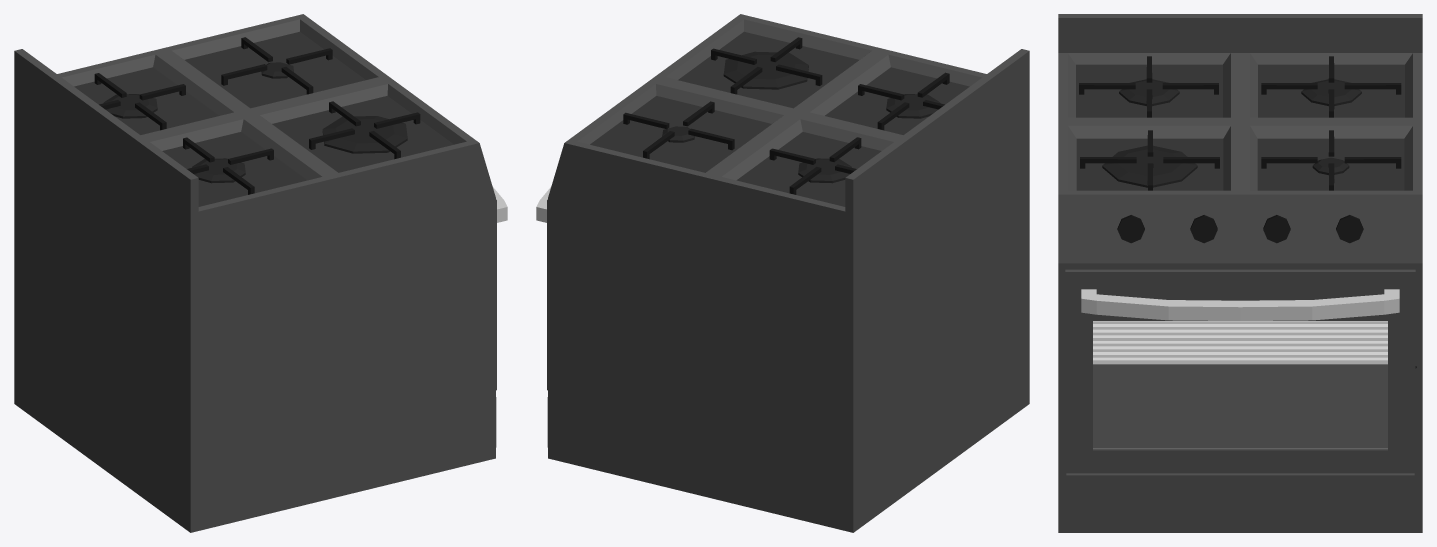
Rendered from Stove.fbx.
The picture shows the model from 3 angles, left to right: view 1: azimuth 30°, elevation 25°; view 2: azimuth 150°, elevation 25°; view 3: azimuth 270°, elevation 25°; orthographic projection. The views are drawn at different scales.
Parts seen in each view (by area): view 1: Base; view 2: Base; view 3: Base, Door, Grill.
Part boxes in pixels (left/top/right/bottom): Base: left=14, top=14, right=496, bottom=532; Base: left=547, top=14, right=1029, bottom=532; Base: left=1058, top=14, right=1422, bottom=532; Door: left=1065, top=269, right=1415, bottom=468; Grill: left=1093, top=321, right=1387, bottom=364.
Size of the model in its own units: 226 by 221 by 200.
